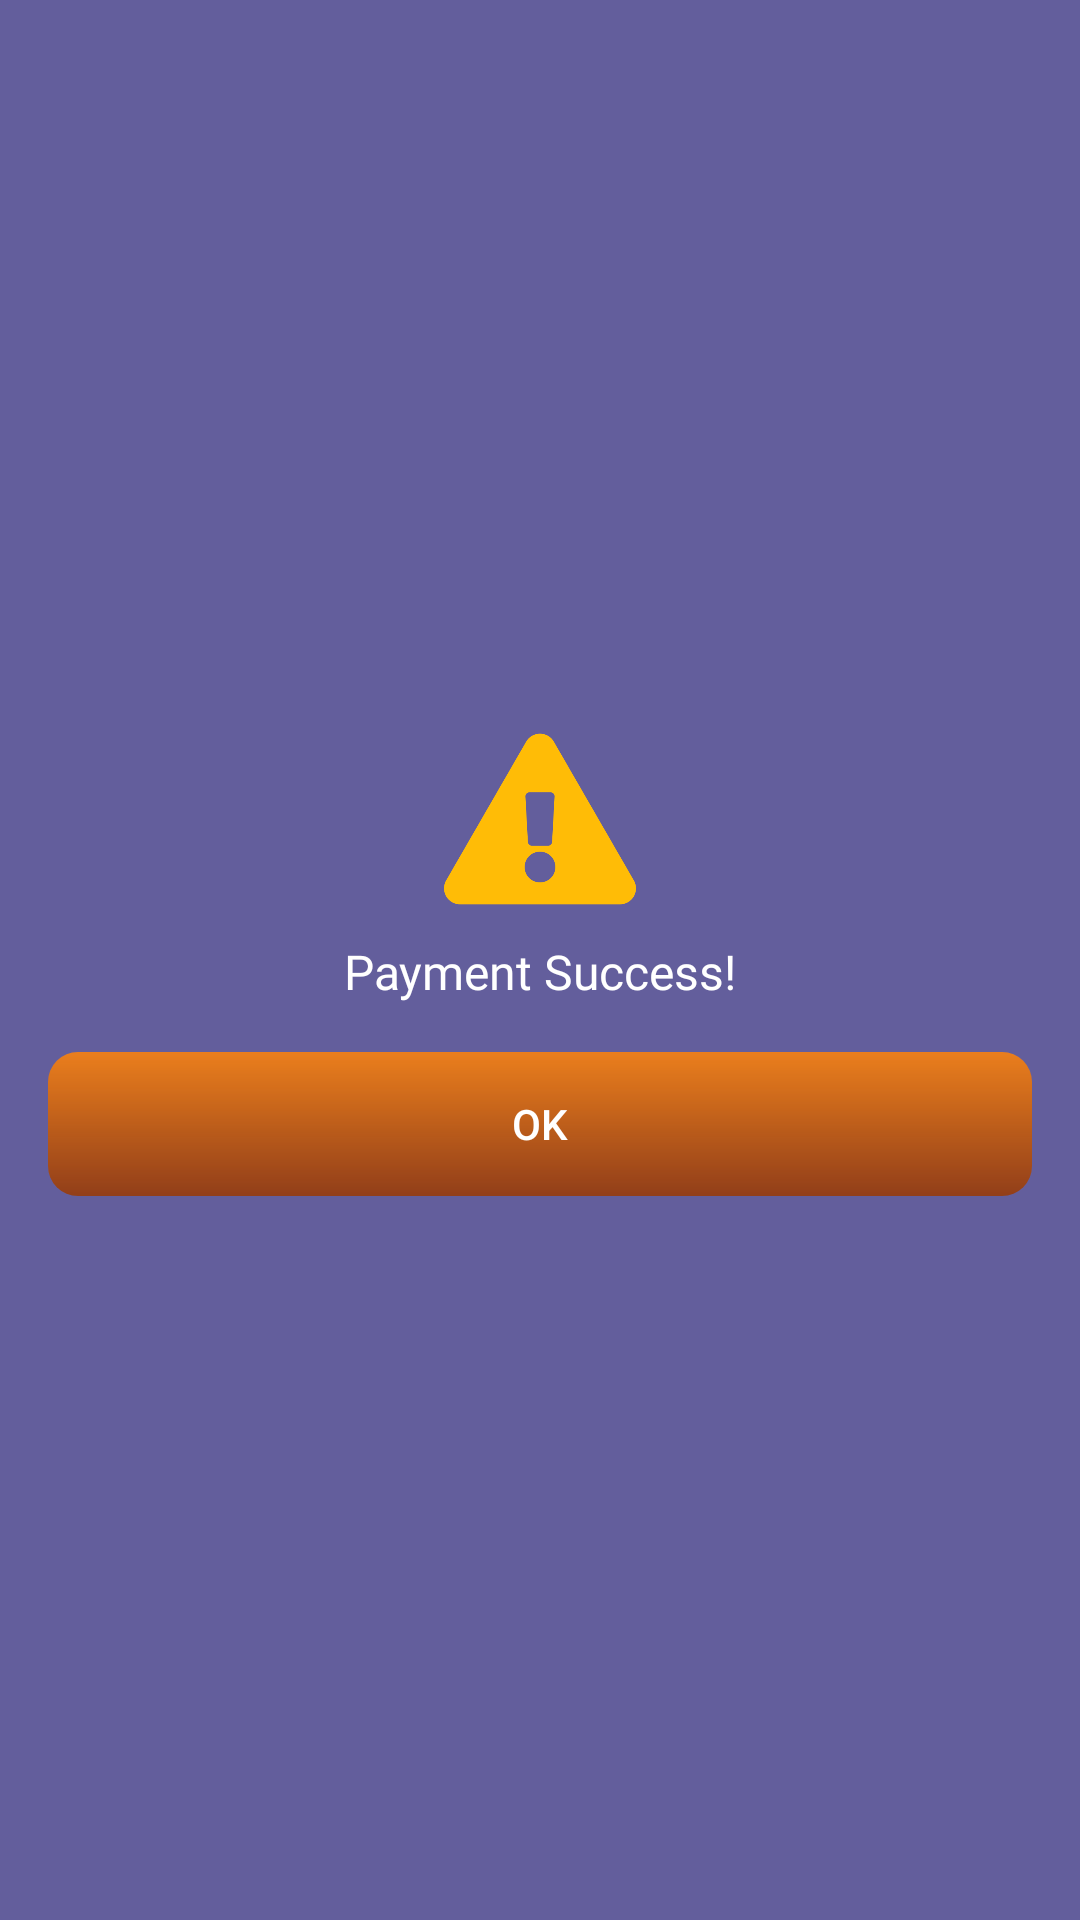

Screen size 1080×1920. Icon name, then its box in pixels as [left=x1, top=y1, right=x2, bottom=y2]:
exclamation mark: [left=444, top=733, right=636, bottom=905]
